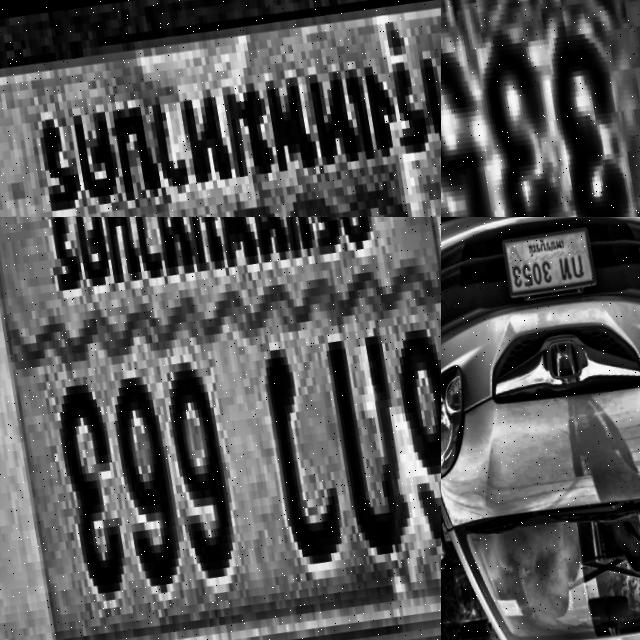license-plate: (0, 217, 441, 640), (0, 0, 441, 217), (441, 0, 640, 217), (497, 217, 599, 304)
